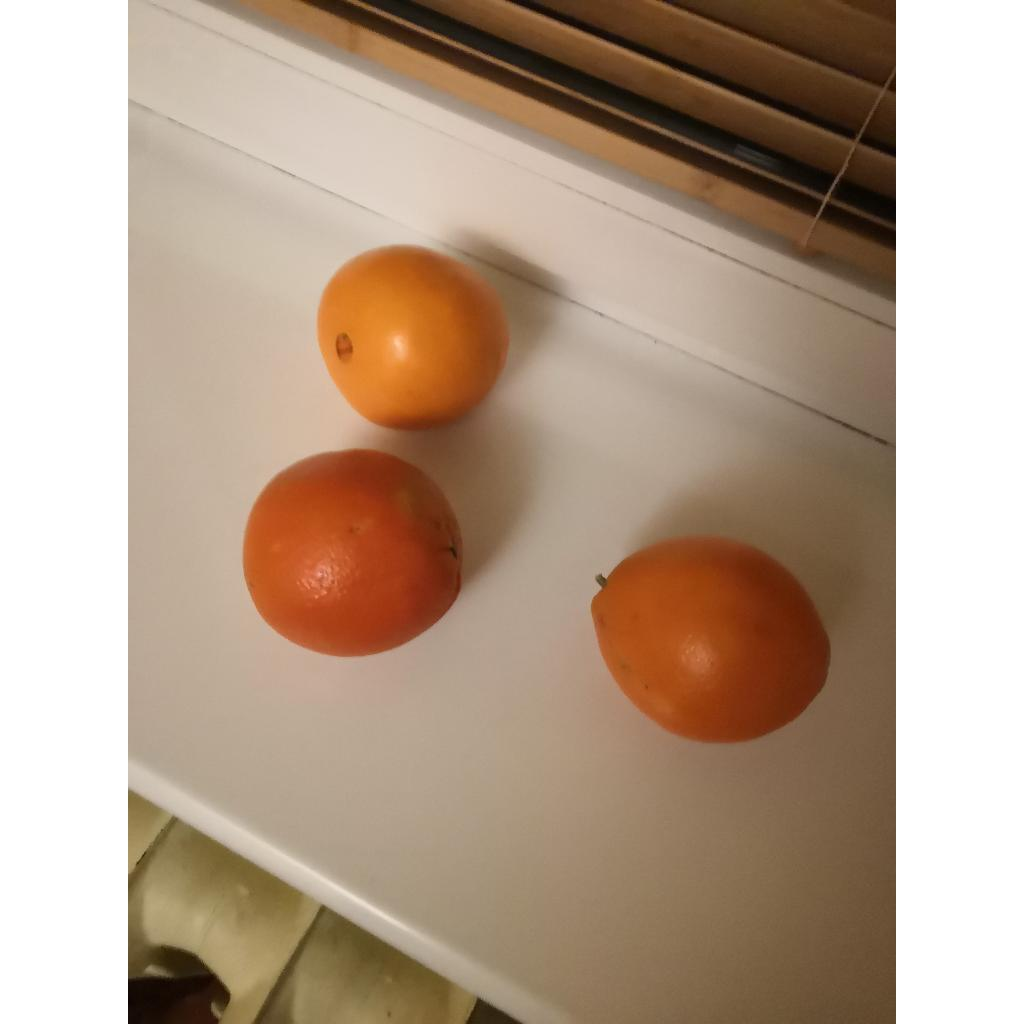orange: (592, 536, 830, 742), (244, 450, 462, 656), (318, 246, 510, 430)
